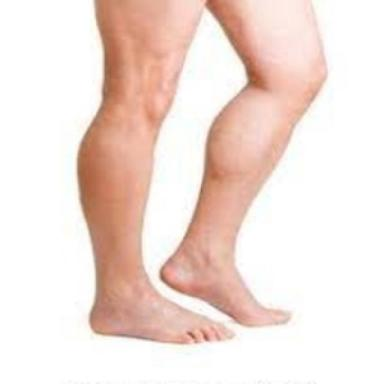normal skin: (78, 1, 325, 343)
